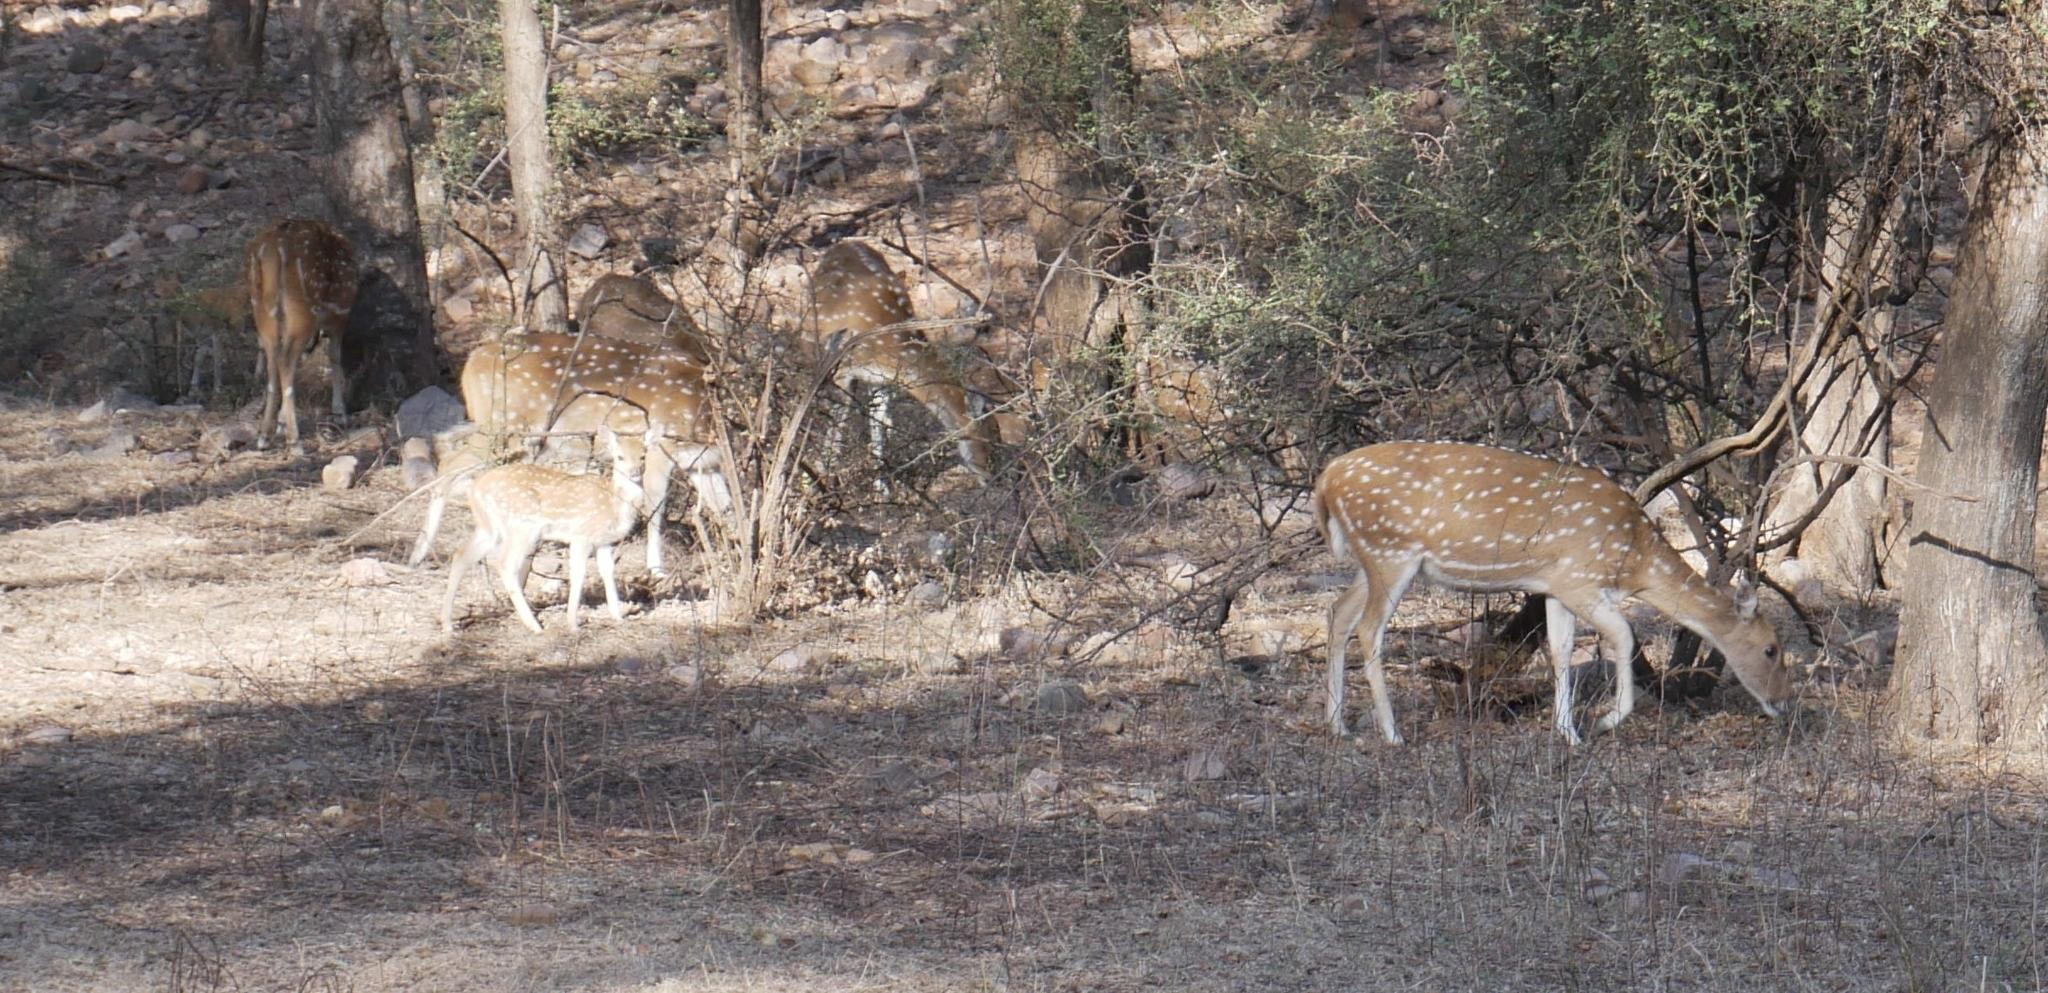Deer: (1311, 442, 1792, 745), (799, 238, 993, 477), (447, 427, 647, 634), (462, 333, 733, 480), (247, 220, 357, 452), (577, 273, 705, 357)
